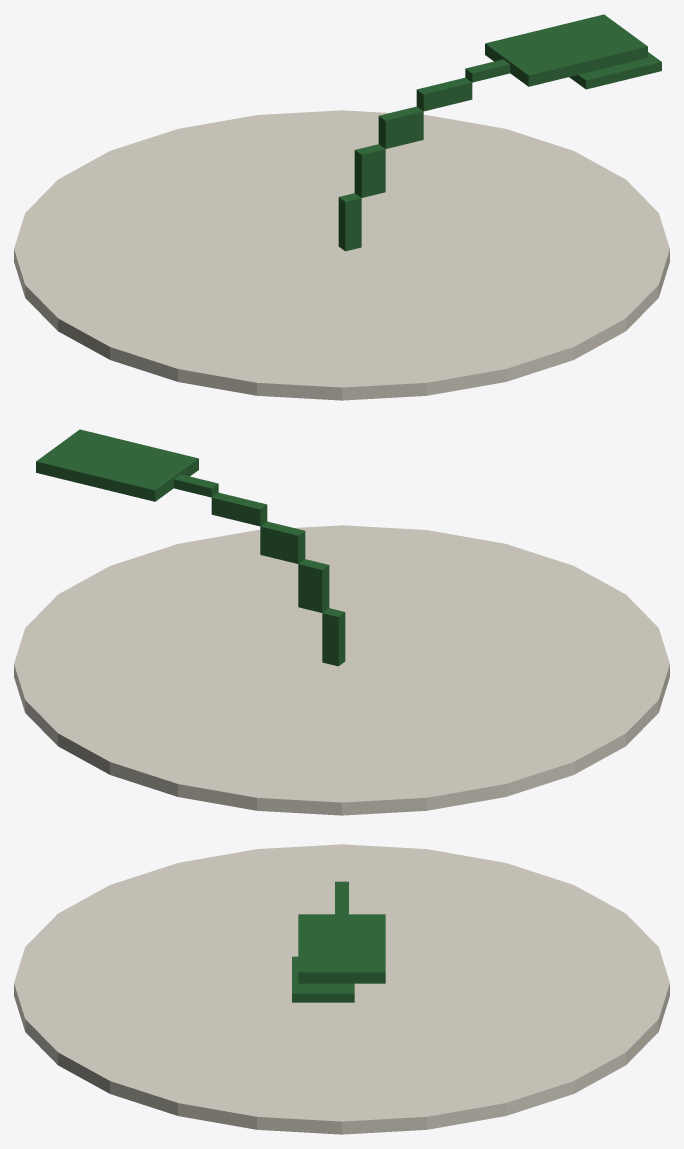
The model's file is rb_divi.glb.
The picture shows the model from 3 angles, top to bottom: view 1: azimuth 30°, elevation 25°; view 2: azimuth 150°, elevation 25°; view 3: azimuth 270°, elevation 25°; orthographic projection.
Visible parts, largest first — view 1: rb_divi_lod0; view 2: rb_divi_lod0; view 3: rb_divi_lod0.
Boxes of the visible parts, box(x1,y1,x2,y2) form: rb_divi_lod0: box(14, 14, 669, 400); rb_divi_lod0: box(14, 429, 669, 815); rb_divi_lod0: box(14, 844, 669, 1134).
Size of what is drawn, in the model's own units: 53.4 by 14.3 by 52.4.
